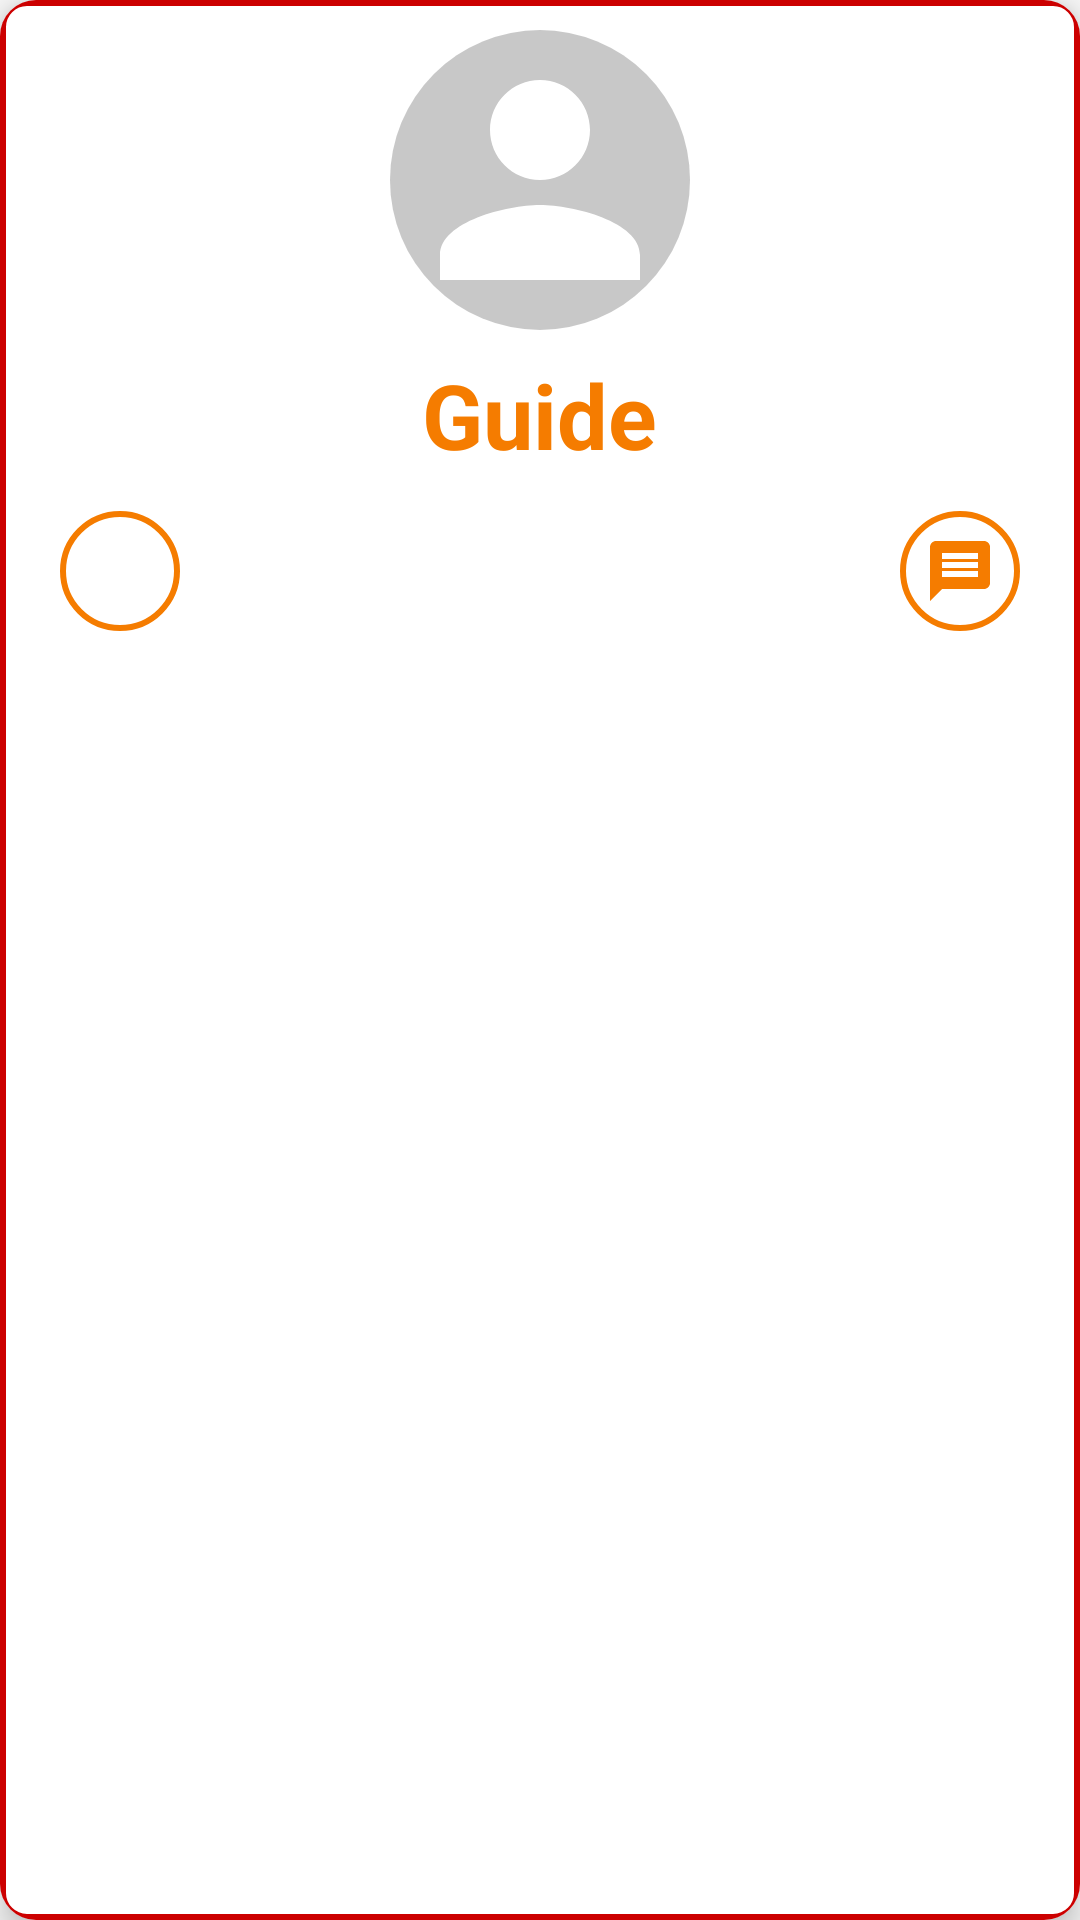

Named icons in this screenshot (1080px x 1920px) and their bounding boxes, (x1, y1, x2, y2):
message: (900, 511, 1020, 631)
person: (390, 30, 690, 330)
